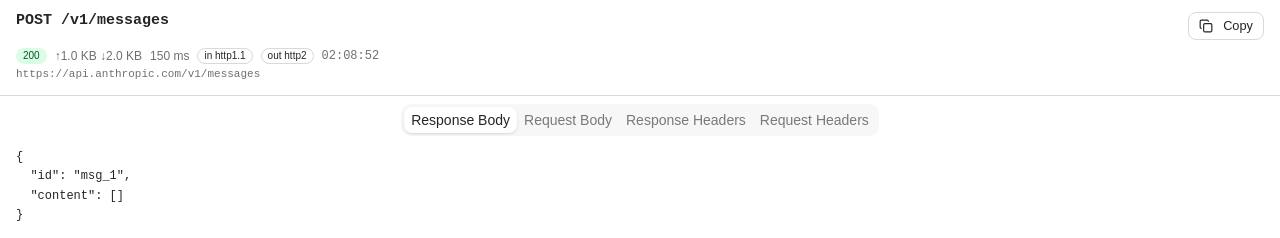
Test case: CaptureDetailPanel transitions › renders not-captured placeholder when request_body is null
The width and height of the screenshot is (1280, 238).
Click the tab "Request Body" at (568, 120), box [517,106,619,132]
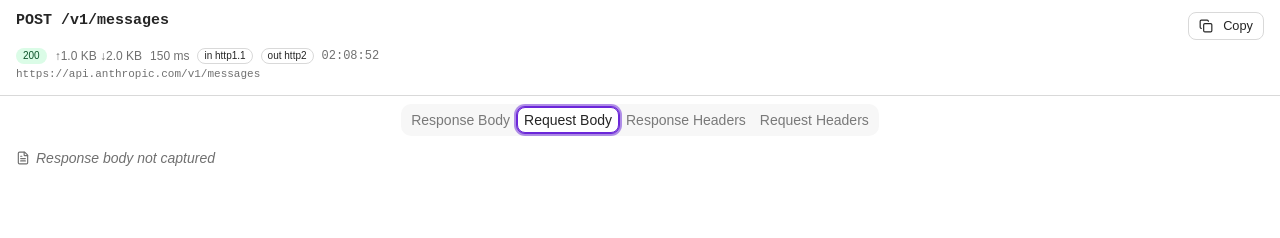
Expected: the text "Response body not captured" is shown, [16,150,215,166]
